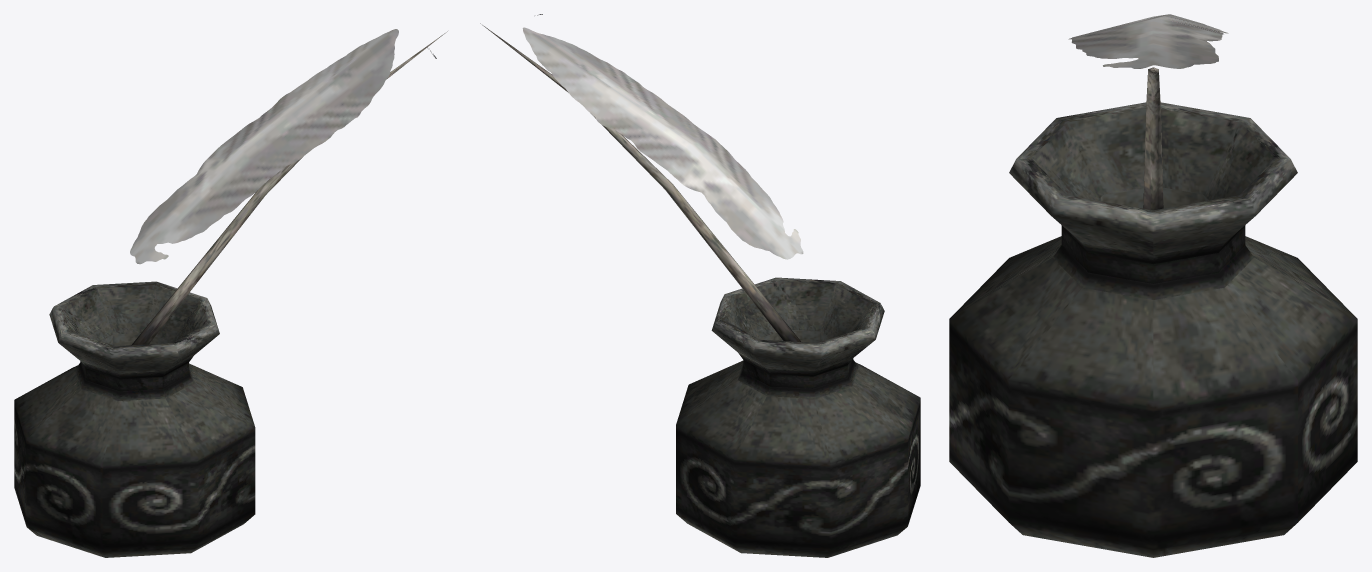
The model's file is ink_bottle_broken.dae.
3 renders of one model, left to right at view 1: azimuth 30°, elevation 25°; view 2: azimuth 150°, elevation 25°; view 3: azimuth 270°, elevation 25°, orthographic. The views are drawn at different scales.
Parts seen in each view (by area): view 1: polySurface12, polySurface13, polySurface11; view 2: polySurface12, polySurface13, polySurface11; view 3: polySurface12, polySurface13, polySurface11.
Boxes of the visible parts, x1,y1,x2,y2 form: polySurface12: [14, 281, 255, 557]; polySurface13: [130, 29, 436, 264]; polySurface11: [131, 31, 447, 345]; polySurface12: [676, 277, 920, 557]; polySurface13: [522, 14, 803, 259]; polySurface11: [480, 23, 800, 341]; polySurface12: [949, 102, 1357, 557]; polySurface13: [1068, 14, 1228, 68]; polySurface11: [1143, 67, 1163, 210].
Bounding box in the file's own units: 0.2937 × 0.2783 × 0.15.
